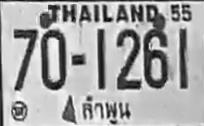0: (40, 29, 66, 89)
1: (178, 28, 188, 88), (96, 29, 105, 88)
2: (115, 29, 140, 88)
6: (143, 28, 168, 88)
7: (13, 28, 37, 90)
LPN: (78, 92, 133, 126)
